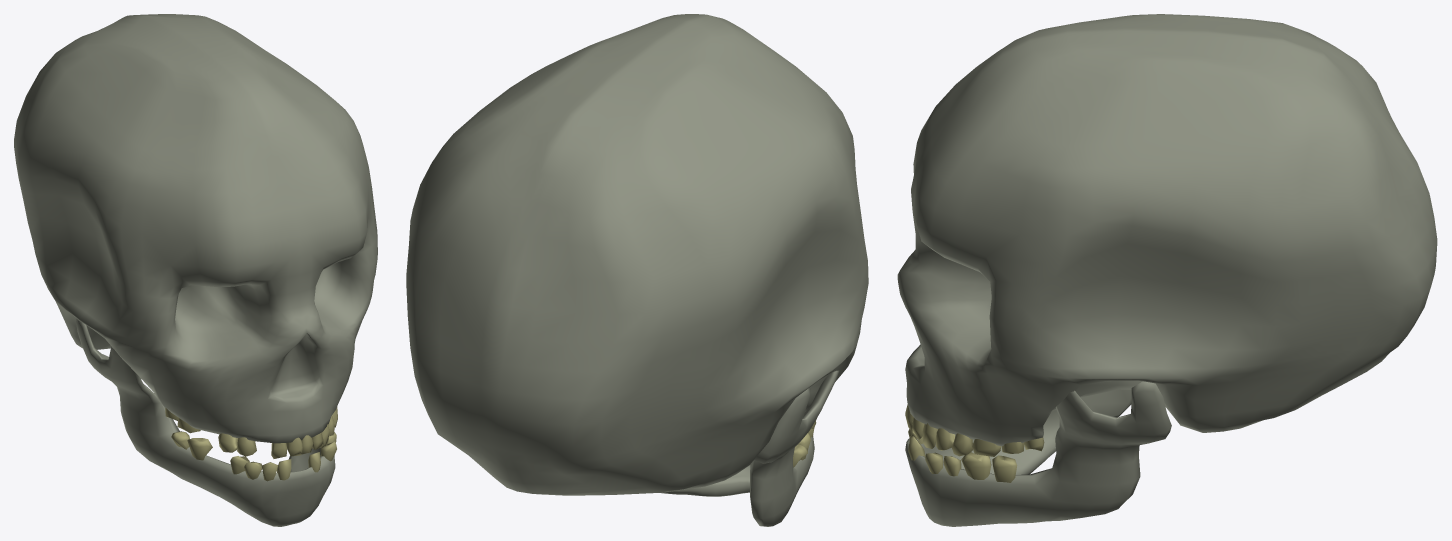
File: skull.gltf
3 views of the same model, side by side, from view 1: azimuth 30°, elevation 25°; view 2: azimuth 150°, elevation 25°; view 3: azimuth 270°, elevation 25° (orthographic). The views are drawn at different scales.
Visible parts, largest first — view 1: skull; view 2: skull; view 3: skull.
Boxes of the visible parts, x1=… form: skull: x1=14, y1=14, x2=377, y2=526; skull: x1=406, y1=14, x2=868, y2=526; skull: x1=897, y1=14, x2=1437, y2=526.
Size of the model in its own units: 0.3171 by 0.4609 by 0.4613.
